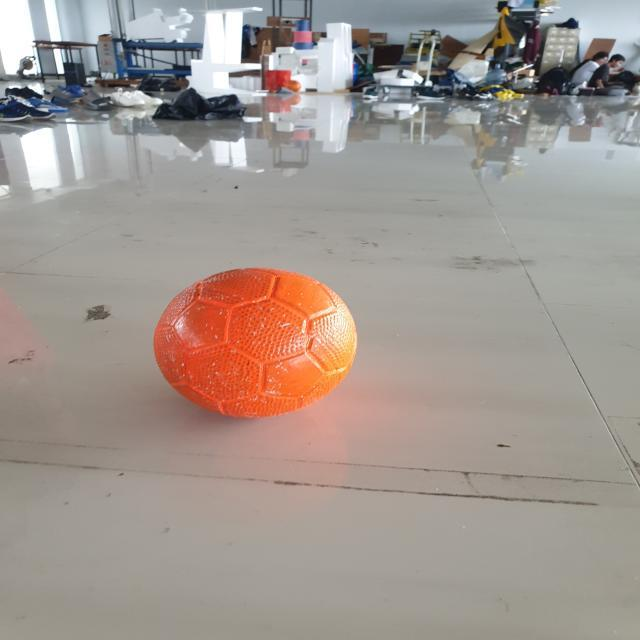bola: (152, 264, 362, 424)
